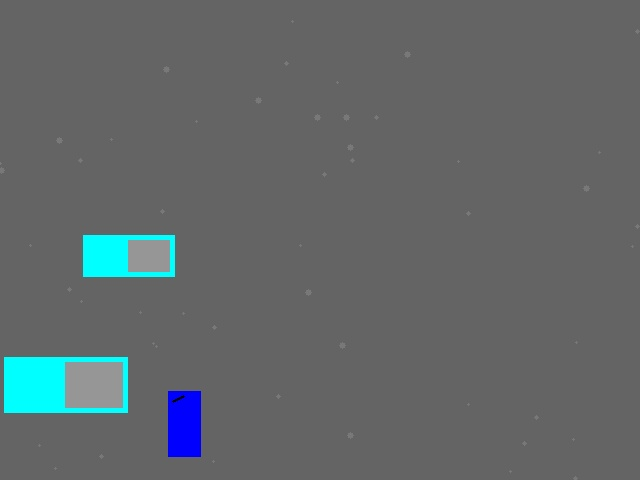motorcycle: (168, 391, 200, 456)
truck: (4, 357, 127, 412), (83, 235, 174, 276)
